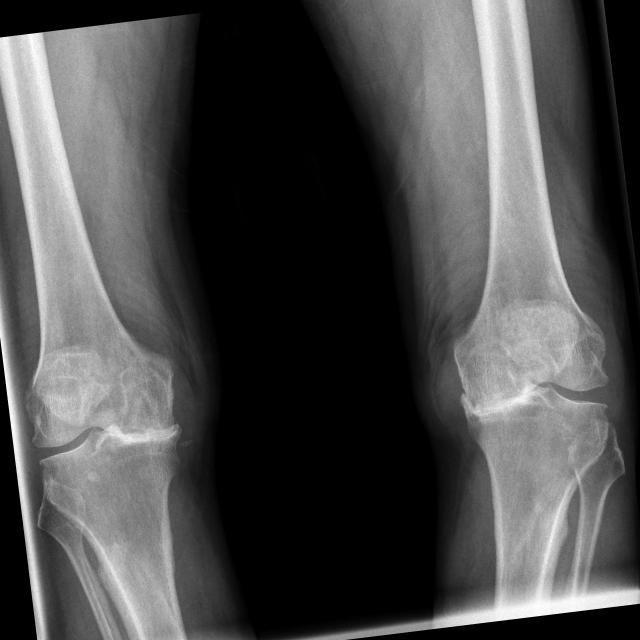Knee: (446, 318, 619, 474), (18, 364, 186, 506)
